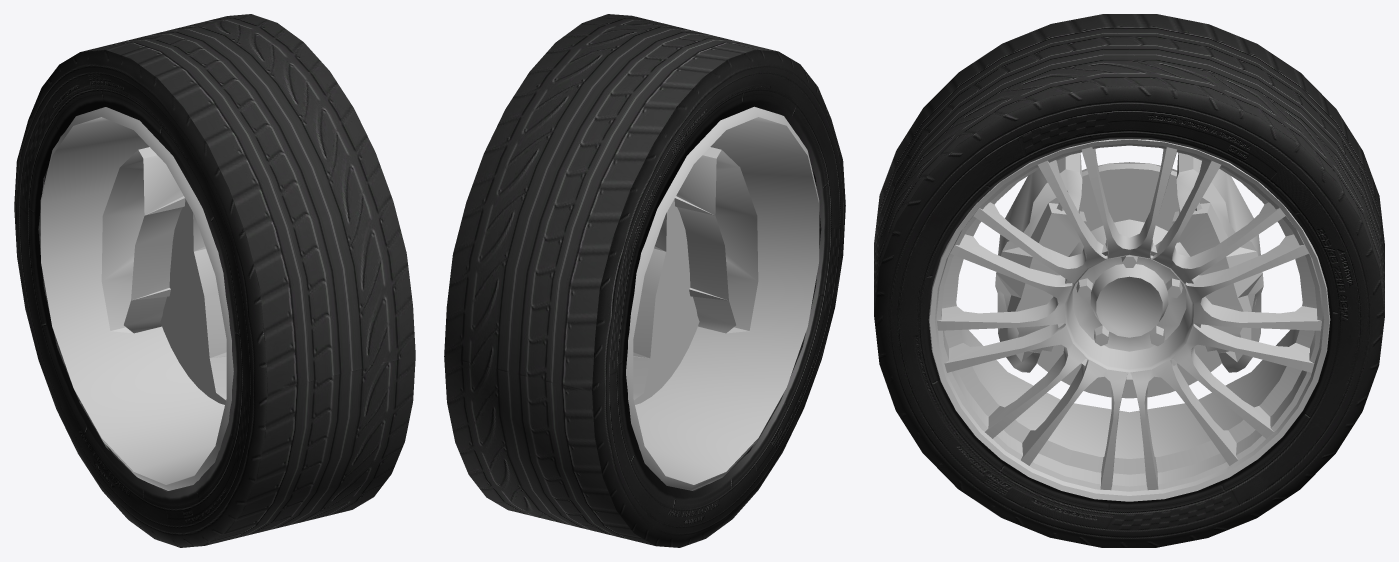
Rendered from Wheel.fbx.
3 views of the same model, side by side, from view 1: azimuth 30°, elevation 25°; view 2: azimuth 150°, elevation 25°; view 3: azimuth 270°, elevation 25° (orthographic).
Visible parts, largest first — view 1: Tire, Ring, Brake1, Disk, Brake2; view 2: Tire, Ring, Brake2, Disk, Brake1; view 3: Tire, Rim, Ring, Disk, Brake2, Brake1.
Part boxes in pixels (x1,y1,x2,y2): Tire: [14, 14, 415, 547]; Ring: [40, 107, 233, 490]; Brake1: [101, 147, 185, 333]; Disk: [160, 199, 225, 404]; Brake2: [193, 212, 226, 399]; Tire: [444, 14, 845, 547]; Ring: [626, 106, 819, 490]; Brake2: [674, 147, 758, 333]; Disk: [634, 199, 699, 404]; Brake1: [633, 212, 666, 399]; Tire: [874, 14, 1384, 547]; Rim: [937, 147, 1321, 490]; Ring: [928, 139, 1330, 501]; Disk: [1002, 162, 1256, 398]; Brake2: [995, 152, 1086, 372]; Brake1: [1172, 152, 1263, 372].
Bounding box in the file's own units: 0.2493 × 0.6515 × 0.6515.
